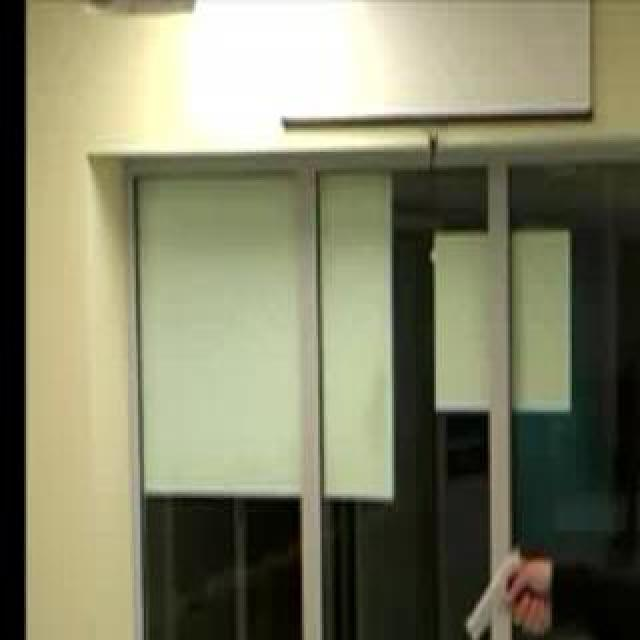Guns: (456, 534, 540, 640)
